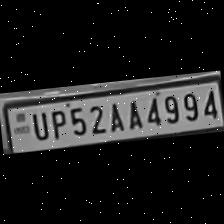2: (84, 100, 107, 136)
4: (140, 92, 162, 128), (198, 85, 219, 119)
5: (66, 102, 88, 137)
9: (178, 87, 199, 121), (160, 90, 180, 124)
A: (122, 96, 144, 130), (105, 97, 126, 132)
P: (46, 106, 68, 140)
U: (28, 106, 50, 140)
